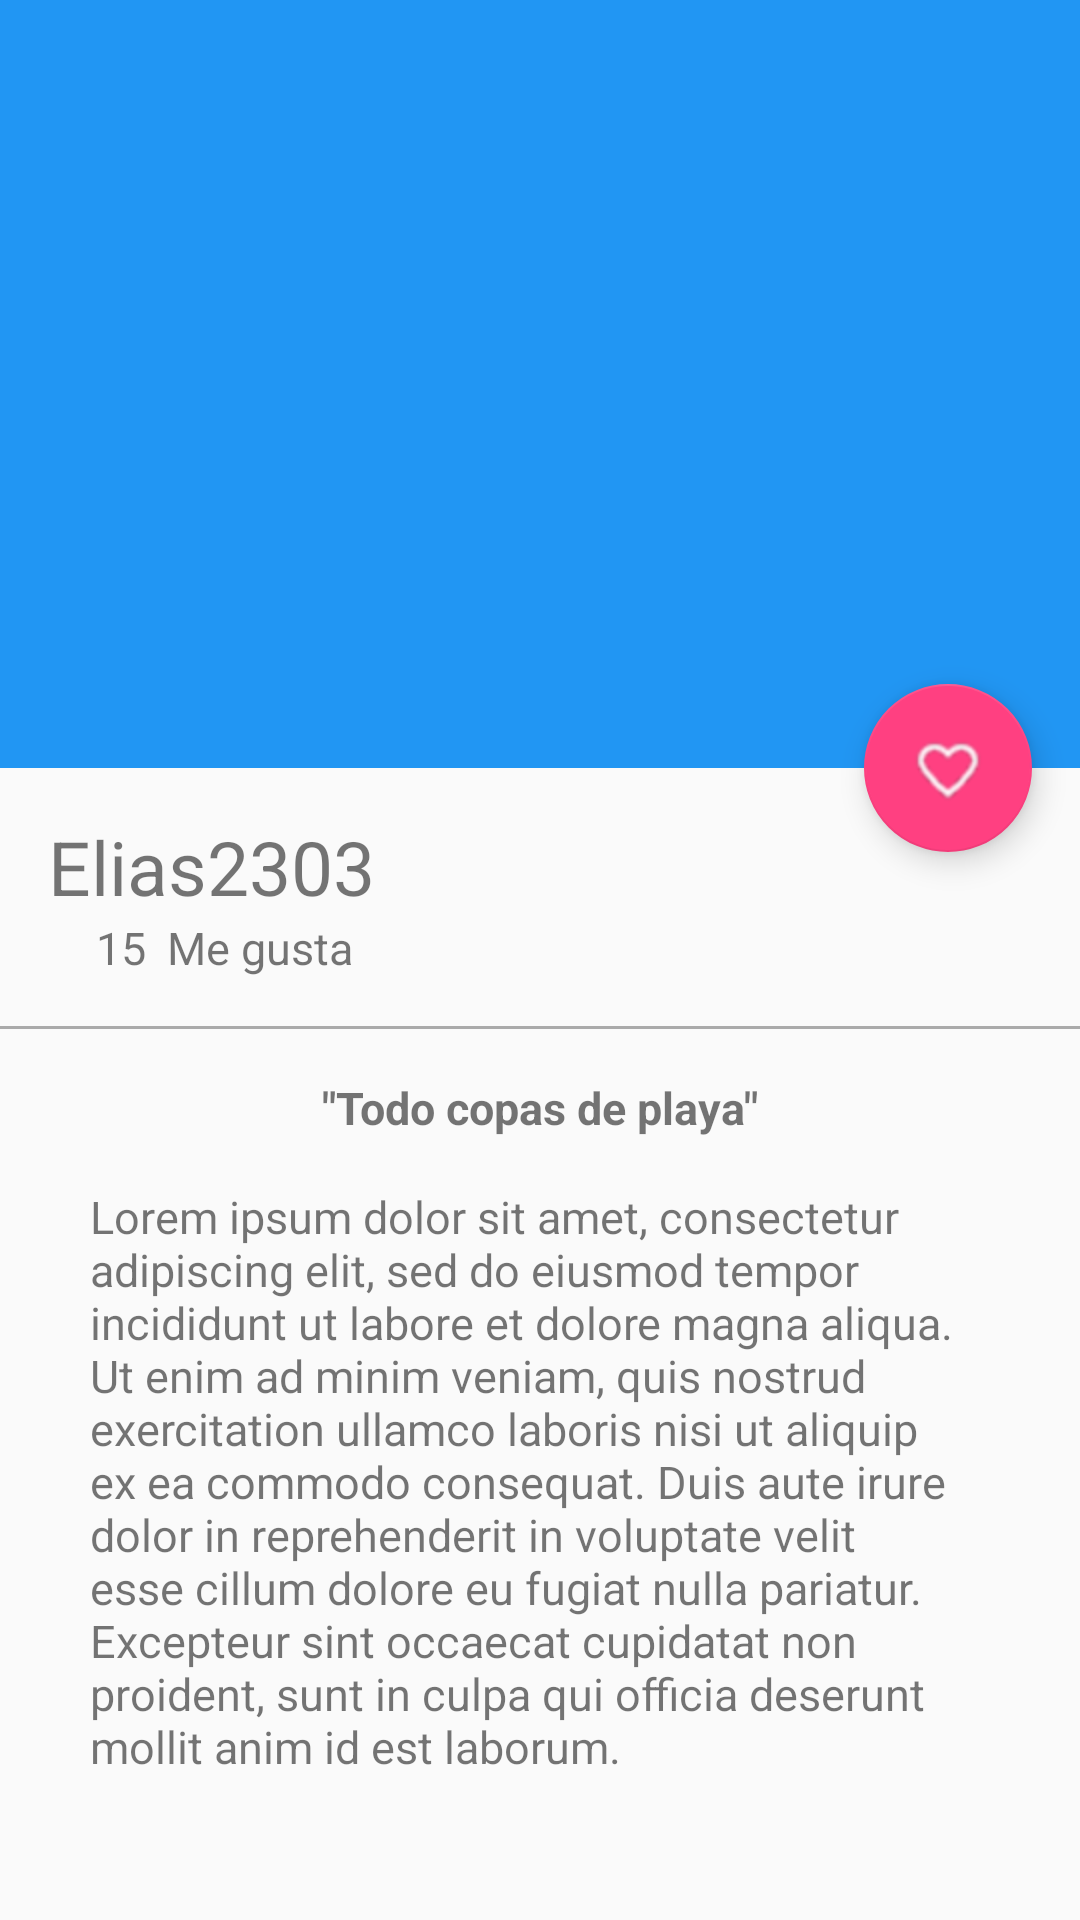

Named icons in this screenshot (1080 x 1920) and their centers, [x,y]:
heart: [948,768]
